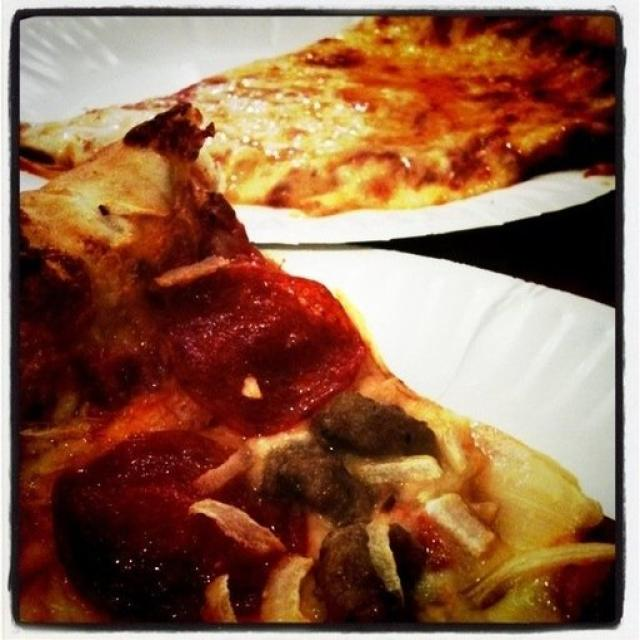Cheese: (268, 73, 483, 158)
Mushrooms: (324, 393, 436, 453), (276, 442, 362, 512)
Onions: (185, 495, 298, 562), (470, 548, 612, 593), (418, 494, 495, 560), (188, 440, 257, 495), (352, 449, 446, 486), (366, 506, 404, 590)
Pepperoni: (42, 432, 249, 609), (158, 269, 362, 422)
Pizza: (10, 10, 621, 626)
